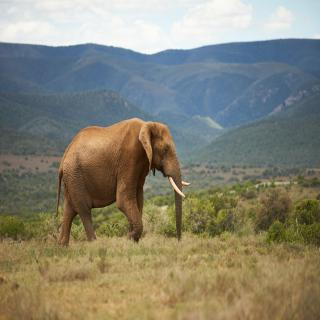Elephant: (54, 114, 192, 245)
